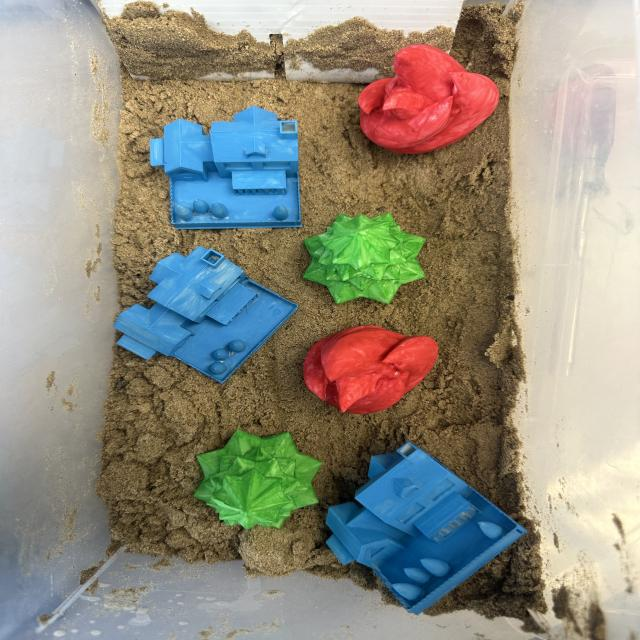fire: (357, 45, 499, 156), (302, 326, 438, 417)
house: (326, 441, 528, 616), (113, 246, 299, 385), (148, 105, 303, 231)
tree: (191, 428, 323, 532), (302, 212, 429, 305)
